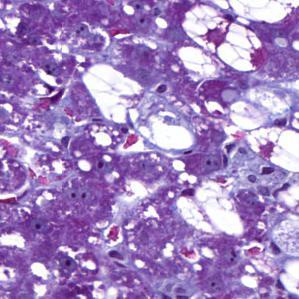ballooning: (181, 3, 263, 74), (174, 178, 247, 240), (80, 61, 147, 127)
